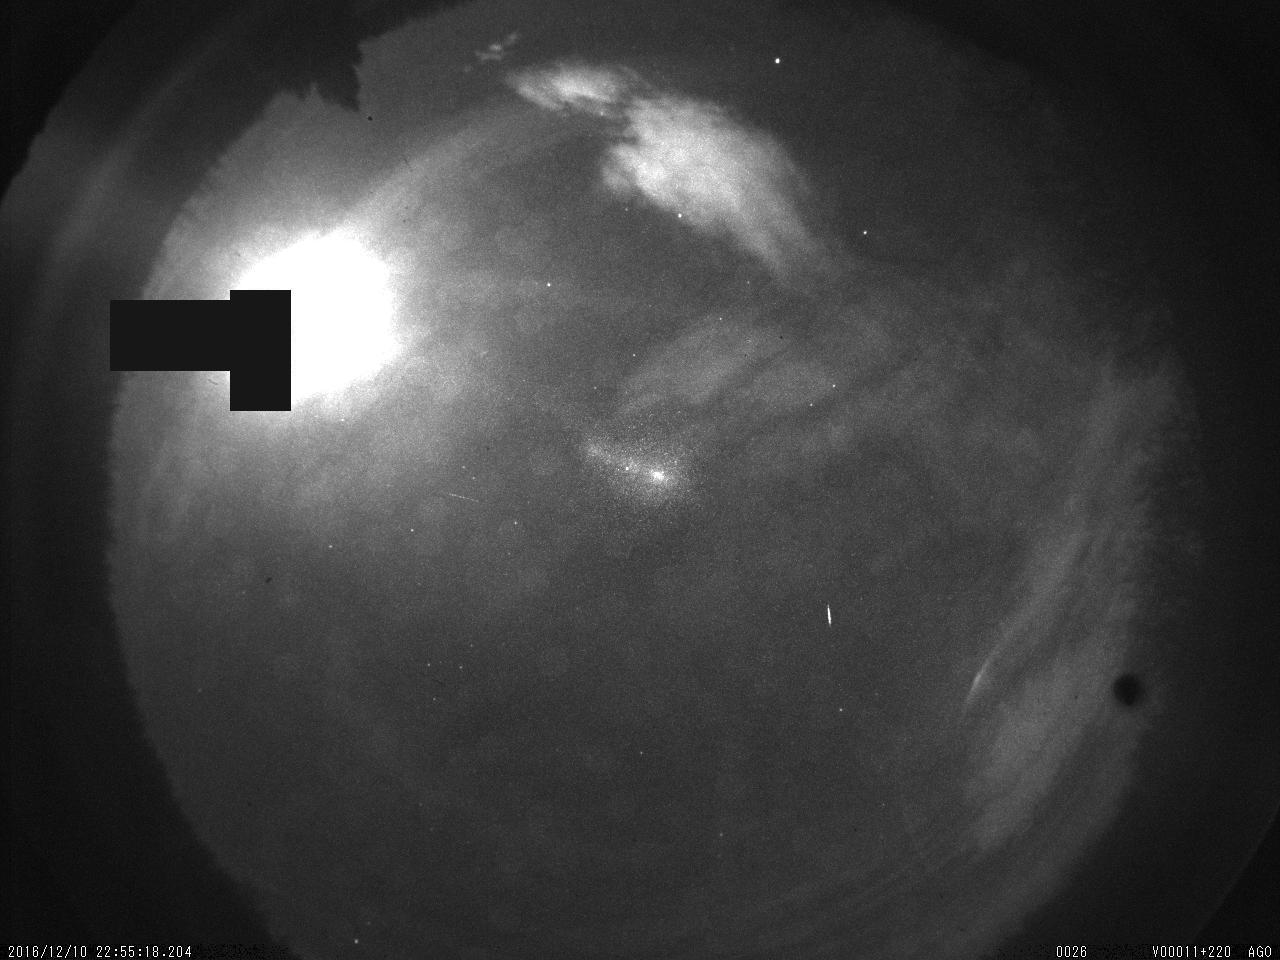Meteor: (821, 598, 836, 635)
